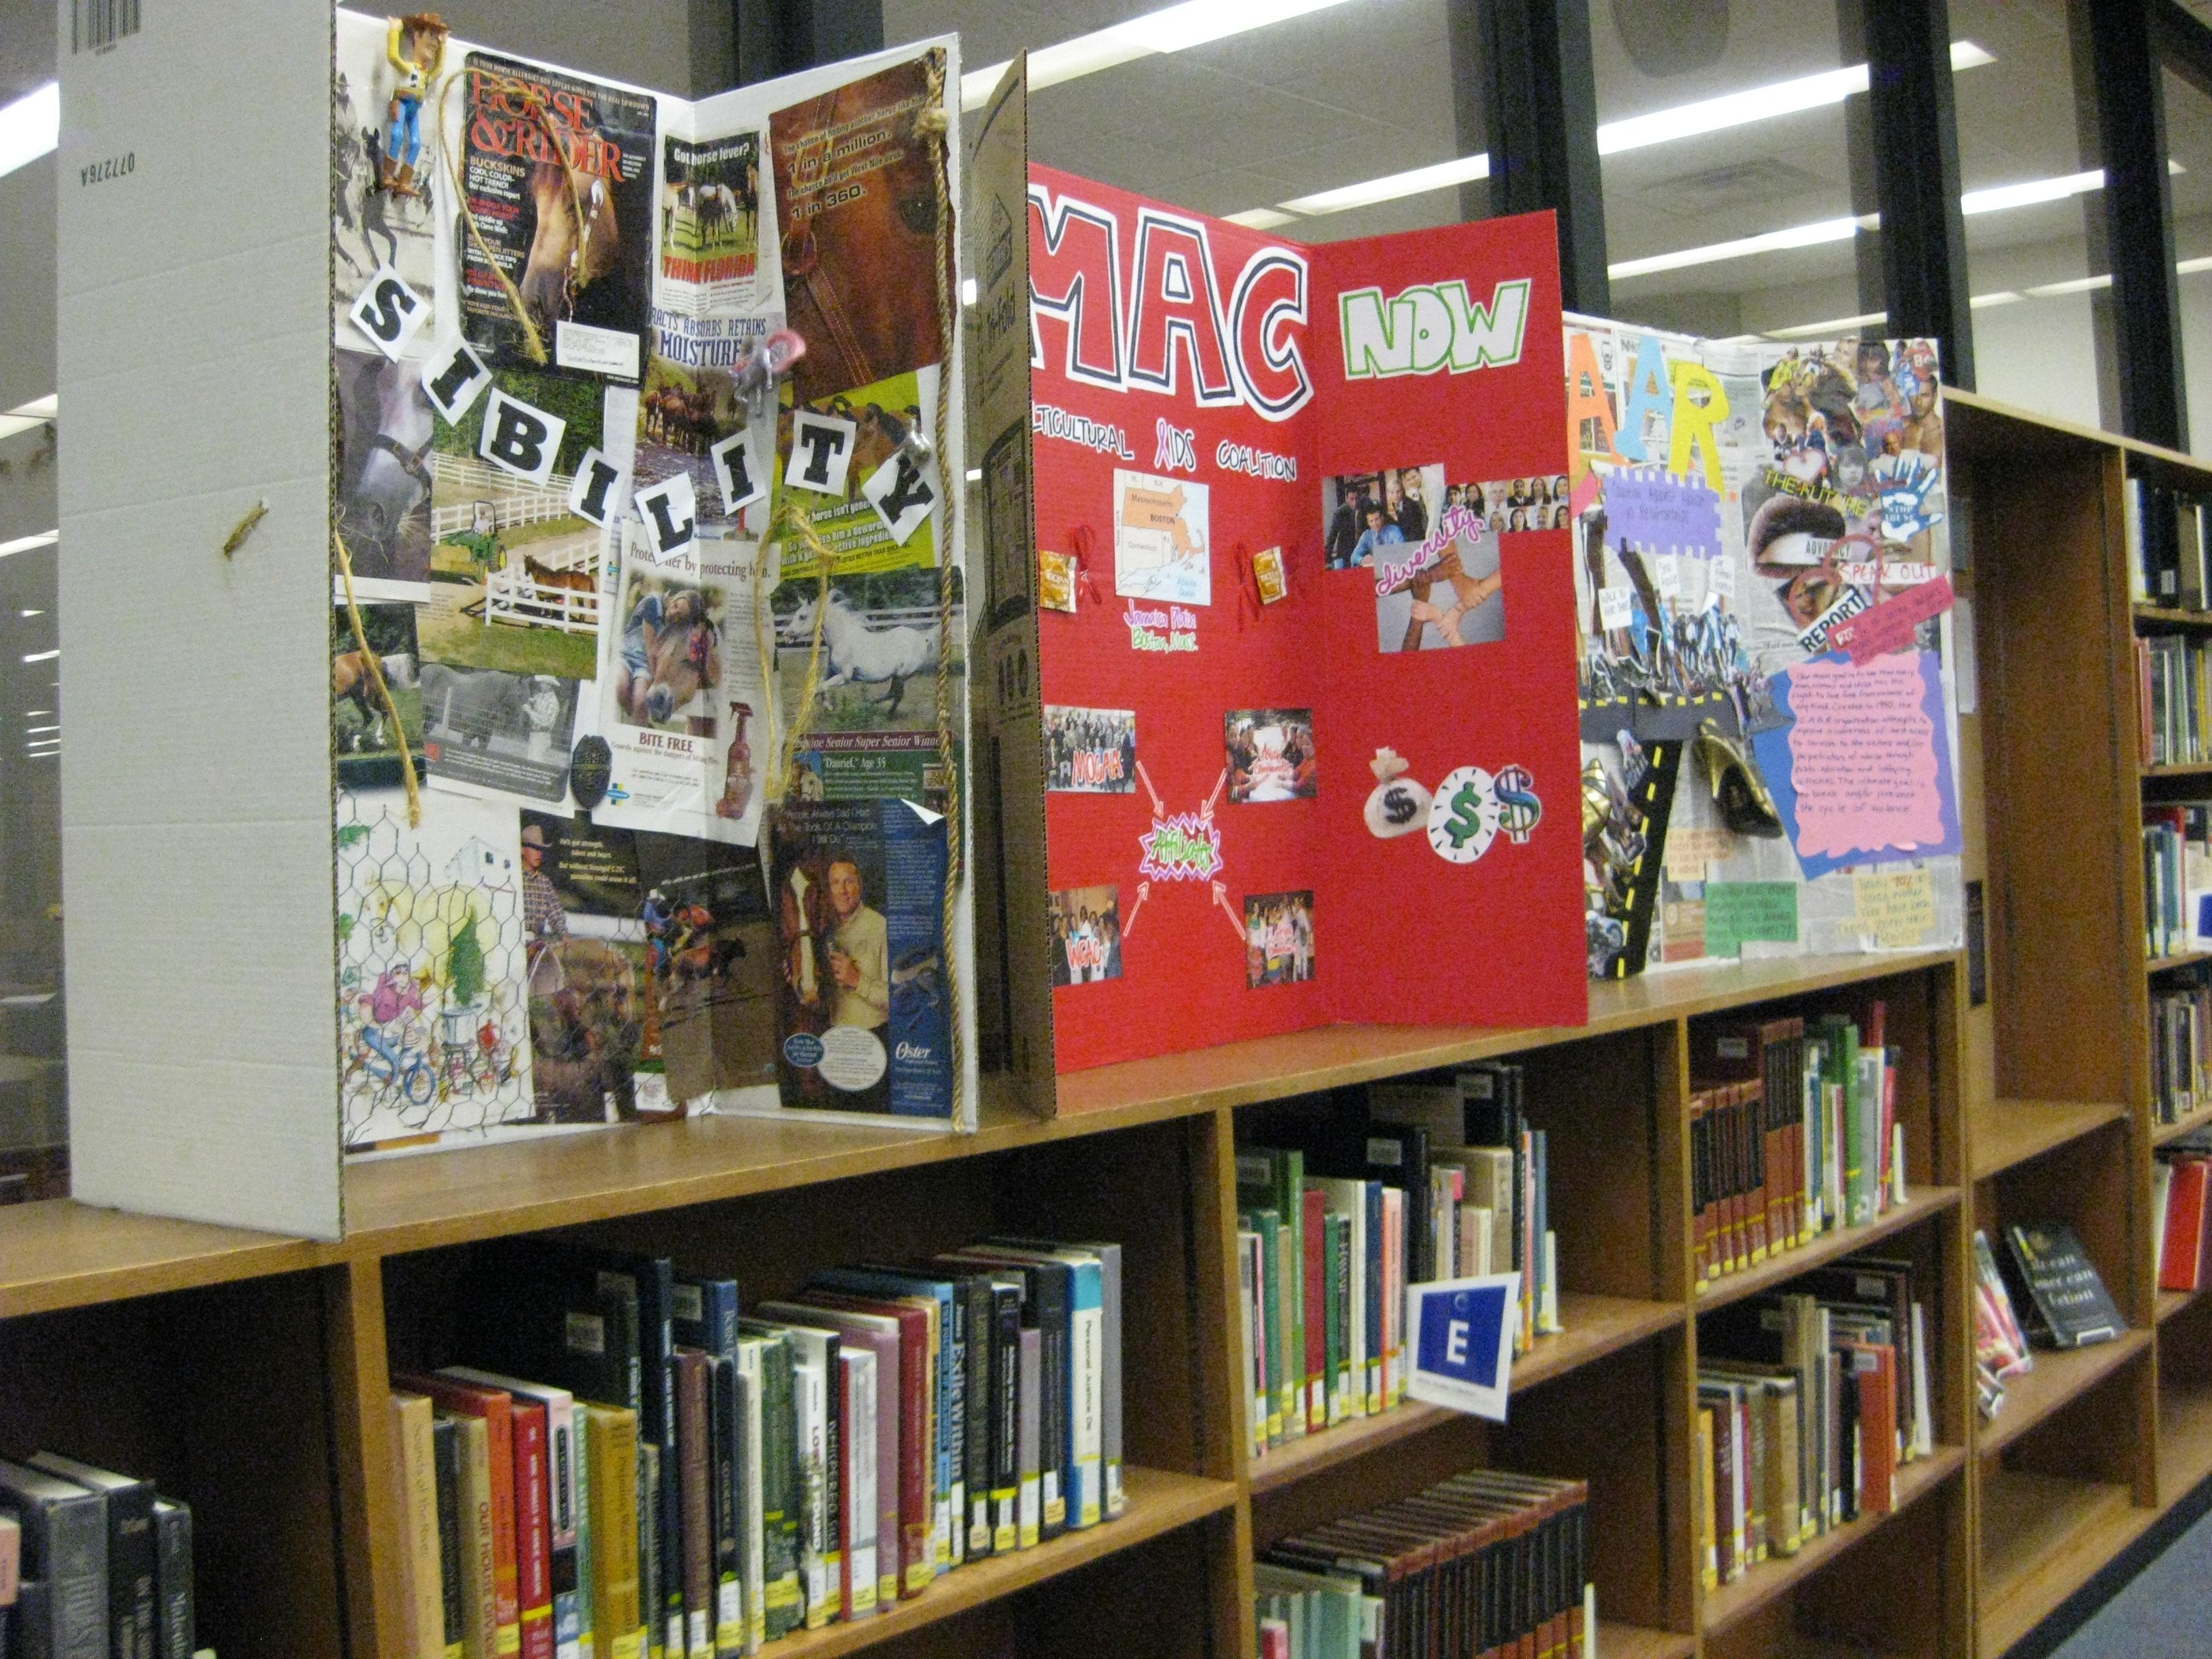Rak: (0, 955, 1968, 1659), (2121, 429, 2212, 1507)
